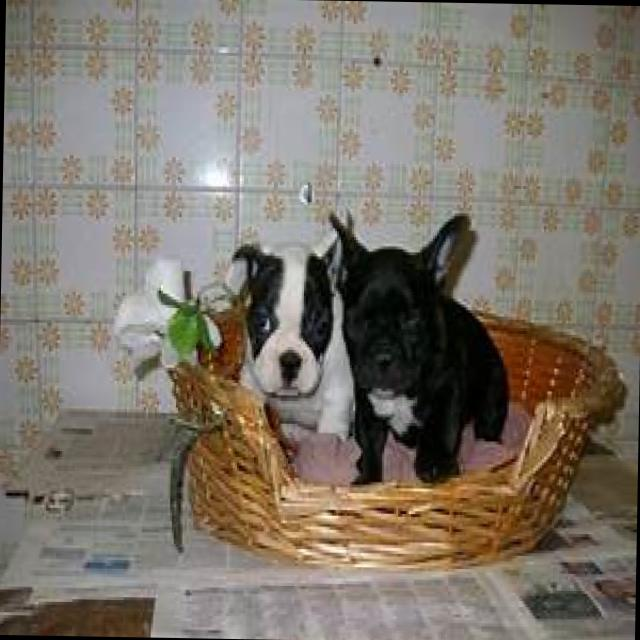animal: (331, 200, 498, 566), (198, 199, 328, 520)
